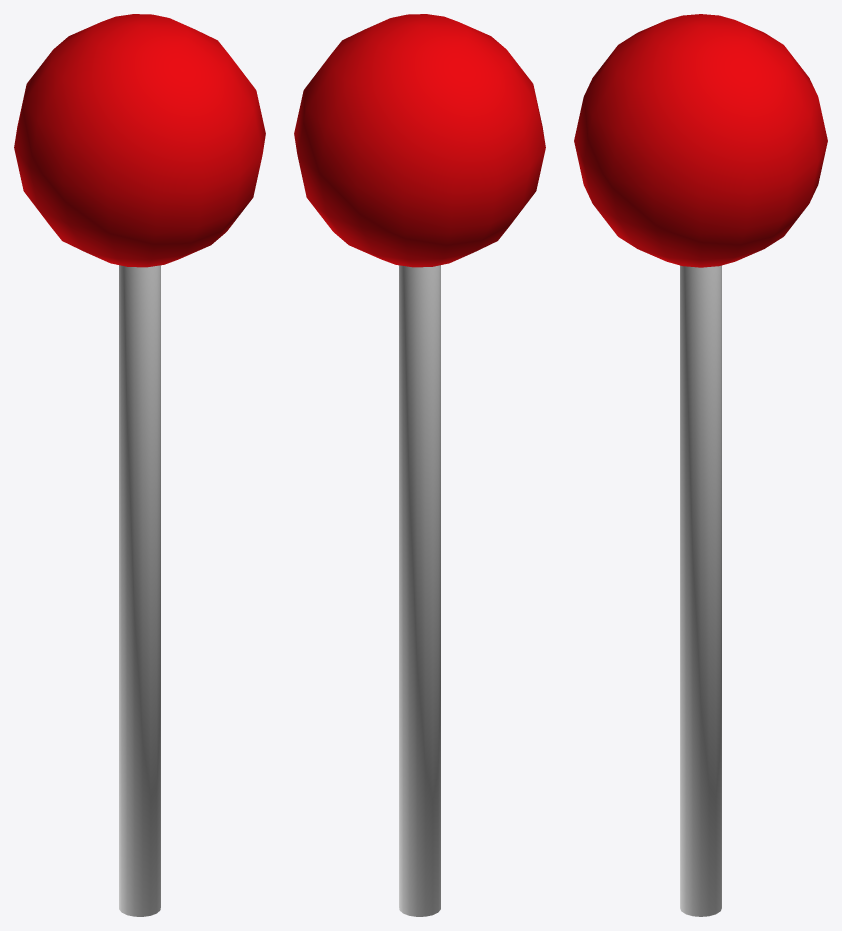
File: weapon.glb
3 views of the same model, side by side, from view 1: azimuth 30°, elevation 25°; view 2: azimuth 150°, elevation 25°; view 3: azimuth 270°, elevation 25° (orthographic).
Visible parts, largest first — view 1: 円柱; view 2: 円柱; view 3: 円柱.
Part boxes in pixels (<box>): 円柱: <box>14,14,265,916</box>; 円柱: <box>294,14,545,916</box>; 円柱: <box>574,14,827,916</box>.
Size of the model in its own units: 0.6 by 2.3 by 0.6.
